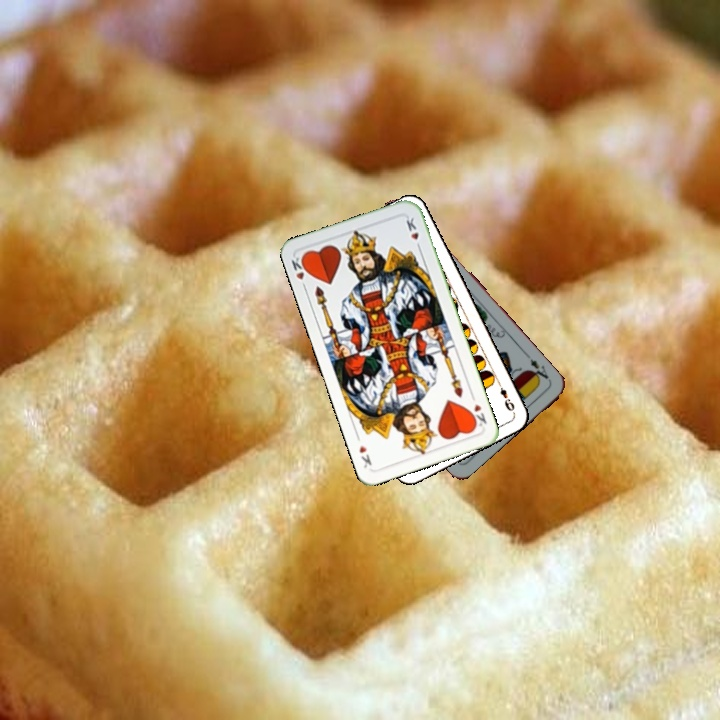E9: (493, 377, 517, 414)
EA: (522, 350, 552, 384)
HK: (287, 251, 312, 292), (466, 391, 489, 429)
